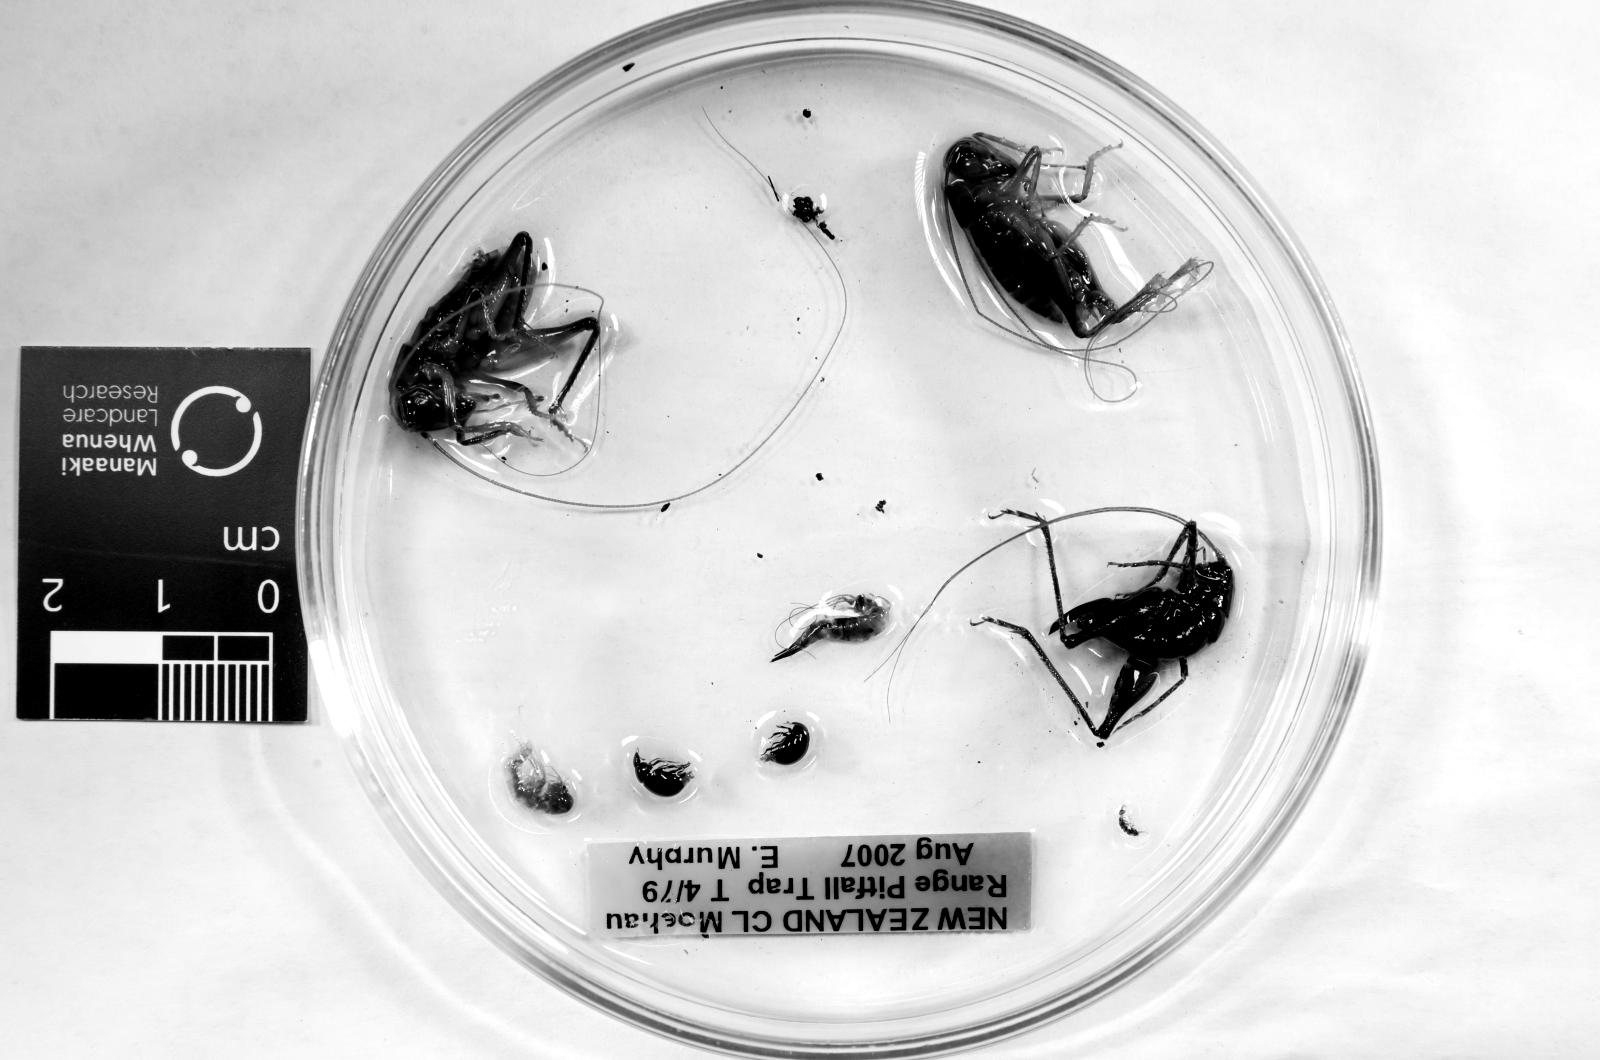amphipoda: (504, 742, 575, 815)
archaeognatha: (772, 594, 890, 661)
coleoptera: (633, 752, 694, 797), (759, 720, 810, 765)
collembola: (1119, 803, 1142, 836)
orthoptera: (1000, 506, 1235, 741), (945, 132, 1210, 338), (390, 232, 601, 445)
